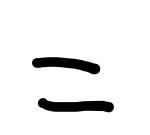eqv: (32, 57, 114, 112)
